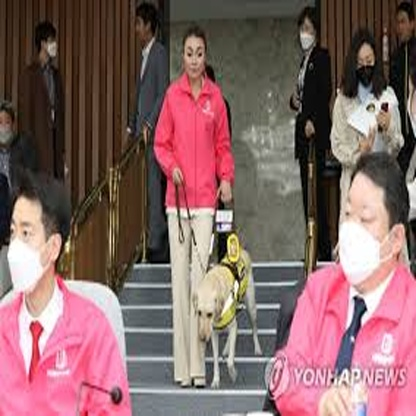guide-dog: (178, 217, 283, 373)
